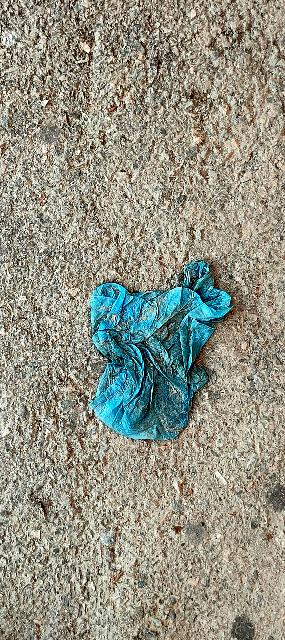polythene: (32, 209, 254, 466)
